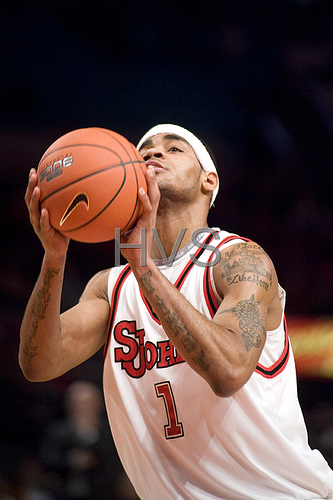basketball: (33, 128, 148, 242)
